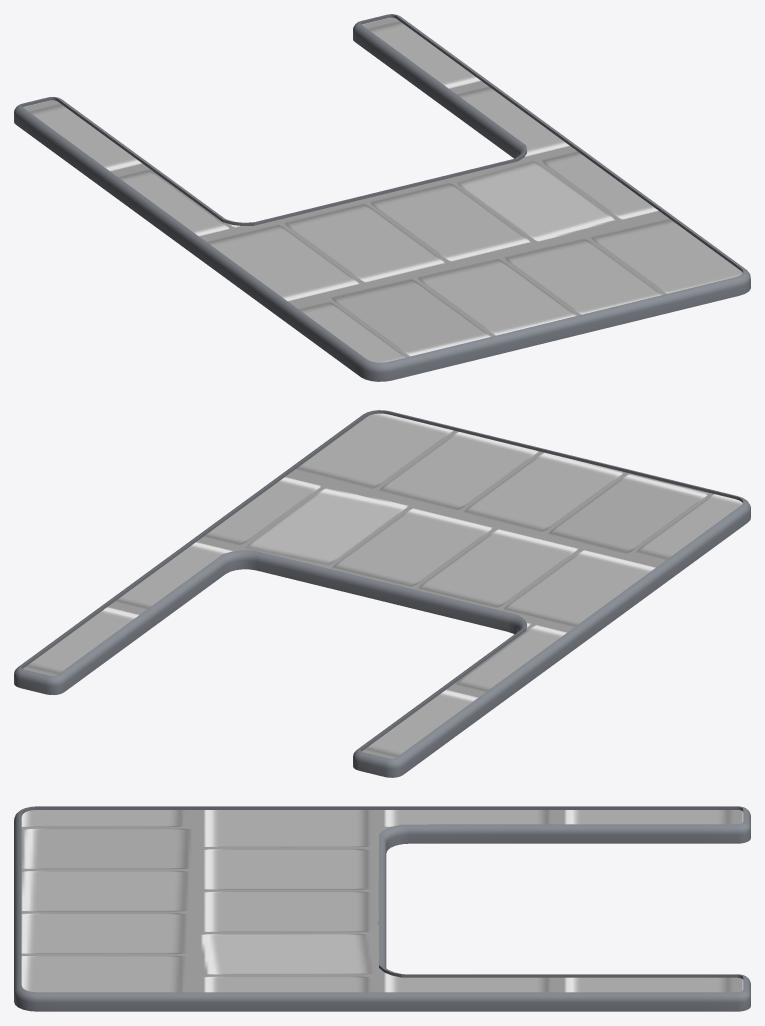
File: wall_uv_map.fbx
The picture shows the model from 3 angles, top to bottom: view 1: azimuth 30°, elevation 25°; view 2: azimuth 150°, elevation 25°; view 3: azimuth 270°, elevation 25°; orthographic projection.
Parts seen in each view (by area): view 1: Plane.010; view 2: Plane.010; view 3: Plane.010.
Boxes of the visible parts, x1,y1,x2,y2 form: Plane.010: (14,14,750,381); Plane.010: (14,410,750,777); Plane.010: (14,806,750,1011).
Size of the model in its own units: 4457 by 174 by 7233.
Materials: 2 (1 with a texture image).
